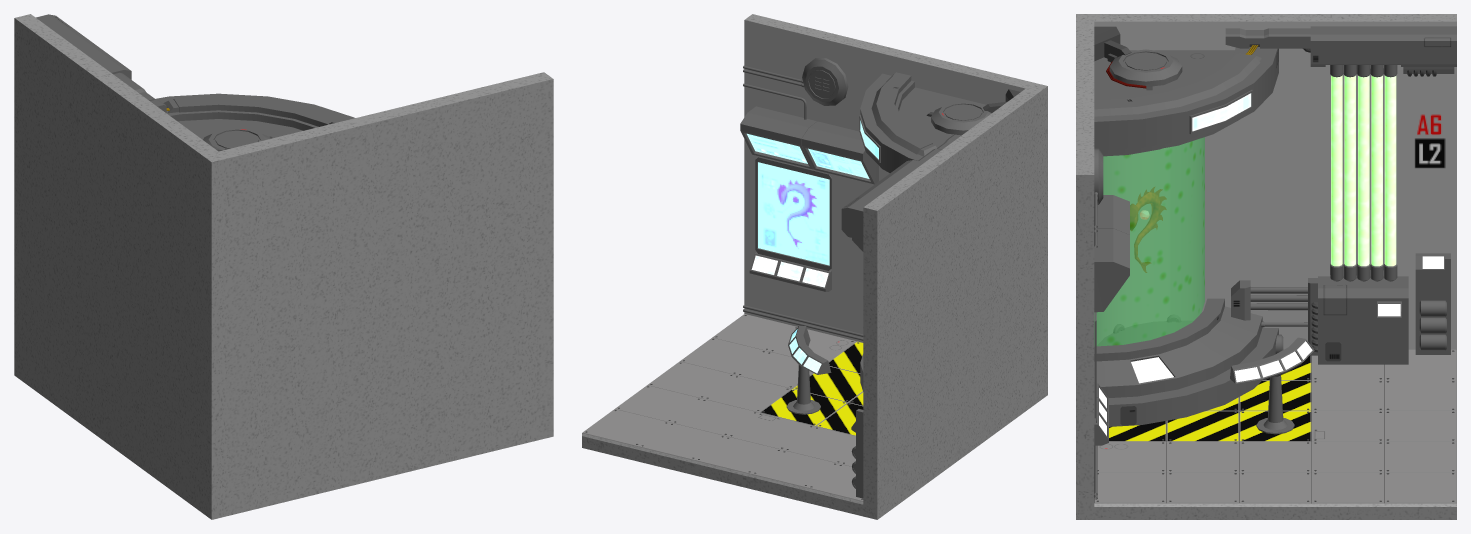
3 renders of one model, left to right at view 1: azimuth 30°, elevation 25°; view 2: azimuth 150°, elevation 25°; view 3: azimuth 270°, elevation 25°, orthographic. The views are drawn at different scales.
Visible parts, largest first — view 1: Room_0, Tube_top_2, Props 02_10, Props 04_12, Hatch A_6; view 2: Room_0, Tiles_25, Screen 01_33, Screen 02_31, Tube_top_2, Props 02_10, Props 04_12, Panel 01_28, Panel 02_29, Vents_30, Hatch A_6, Pipes 02_37 (+1 smaller); view 3: Room_0, Tiles_25, Tube_1, Tube_bottom_3, Tubes 01_15, Tube_top_2, Props 06_16, Tube_back_5, Props 04_12, Screen 02_31, Props 02_10, Panel 01_28 (+10 smaller).
Part boxes in pixels (bbox=[...]): Room_0: bbox=[14, 14, 553, 519]; Tube_top_2: bbox=[156, 93, 354, 139]; Props 02_10: bbox=[163, 96, 345, 126]; Props 04_12: bbox=[36, 14, 166, 112]; Hatch A_6: bbox=[203, 127, 270, 150]; Room_0: bbox=[582, 14, 1047, 519]; Tiles_25: bbox=[582, 314, 863, 501]; Screen 01_33: bbox=[755, 157, 831, 270]; Screen 02_31: bbox=[740, 106, 878, 184]; Tube_top_2: bbox=[860, 73, 986, 172]; Props 02_10: bbox=[871, 72, 936, 156]; Props 04_12: bbox=[841, 134, 960, 251]; Panel 01_28: bbox=[786, 325, 831, 414]; Panel 02_29: bbox=[749, 252, 831, 291]; Vents_30: bbox=[802, 58, 848, 105]; Hatch A_6: bbox=[931, 101, 991, 135]; Pipes 02_37: bbox=[743, 305, 863, 340]; Room_0: bbox=[1076, 14, 1456, 519]; Tiles_25: bbox=[1094, 349, 1456, 503]; Tube_1: bbox=[1094, 137, 1204, 346]; Tube_bottom_3: bbox=[1094, 298, 1278, 426]; Tubes 01_15: bbox=[1330, 65, 1397, 281]; Tube_top_2: bbox=[1094, 47, 1278, 156]; Props 06_16: bbox=[1308, 276, 1408, 364]; Tube_back_5: bbox=[1097, 147, 1169, 344]; Props 04_12: bbox=[1225, 26, 1456, 73]; Screen 02_31: bbox=[1094, 195, 1129, 312]; Props 02_10: bbox=[1094, 53, 1261, 116]; Panel 01_28: bbox=[1230, 337, 1314, 434].
Size of the model in its own units: 10.5 by 10.5 by 10.5.
Materials: 14 (11 with a texture image).
